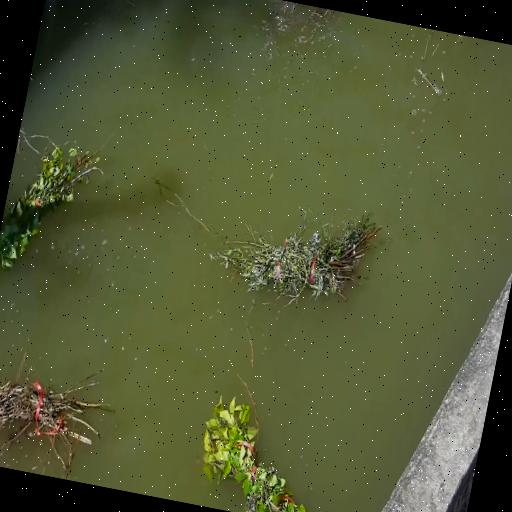twig: (210, 188, 382, 317), (185, 385, 354, 512), (0, 116, 91, 286), (0, 347, 107, 477)
